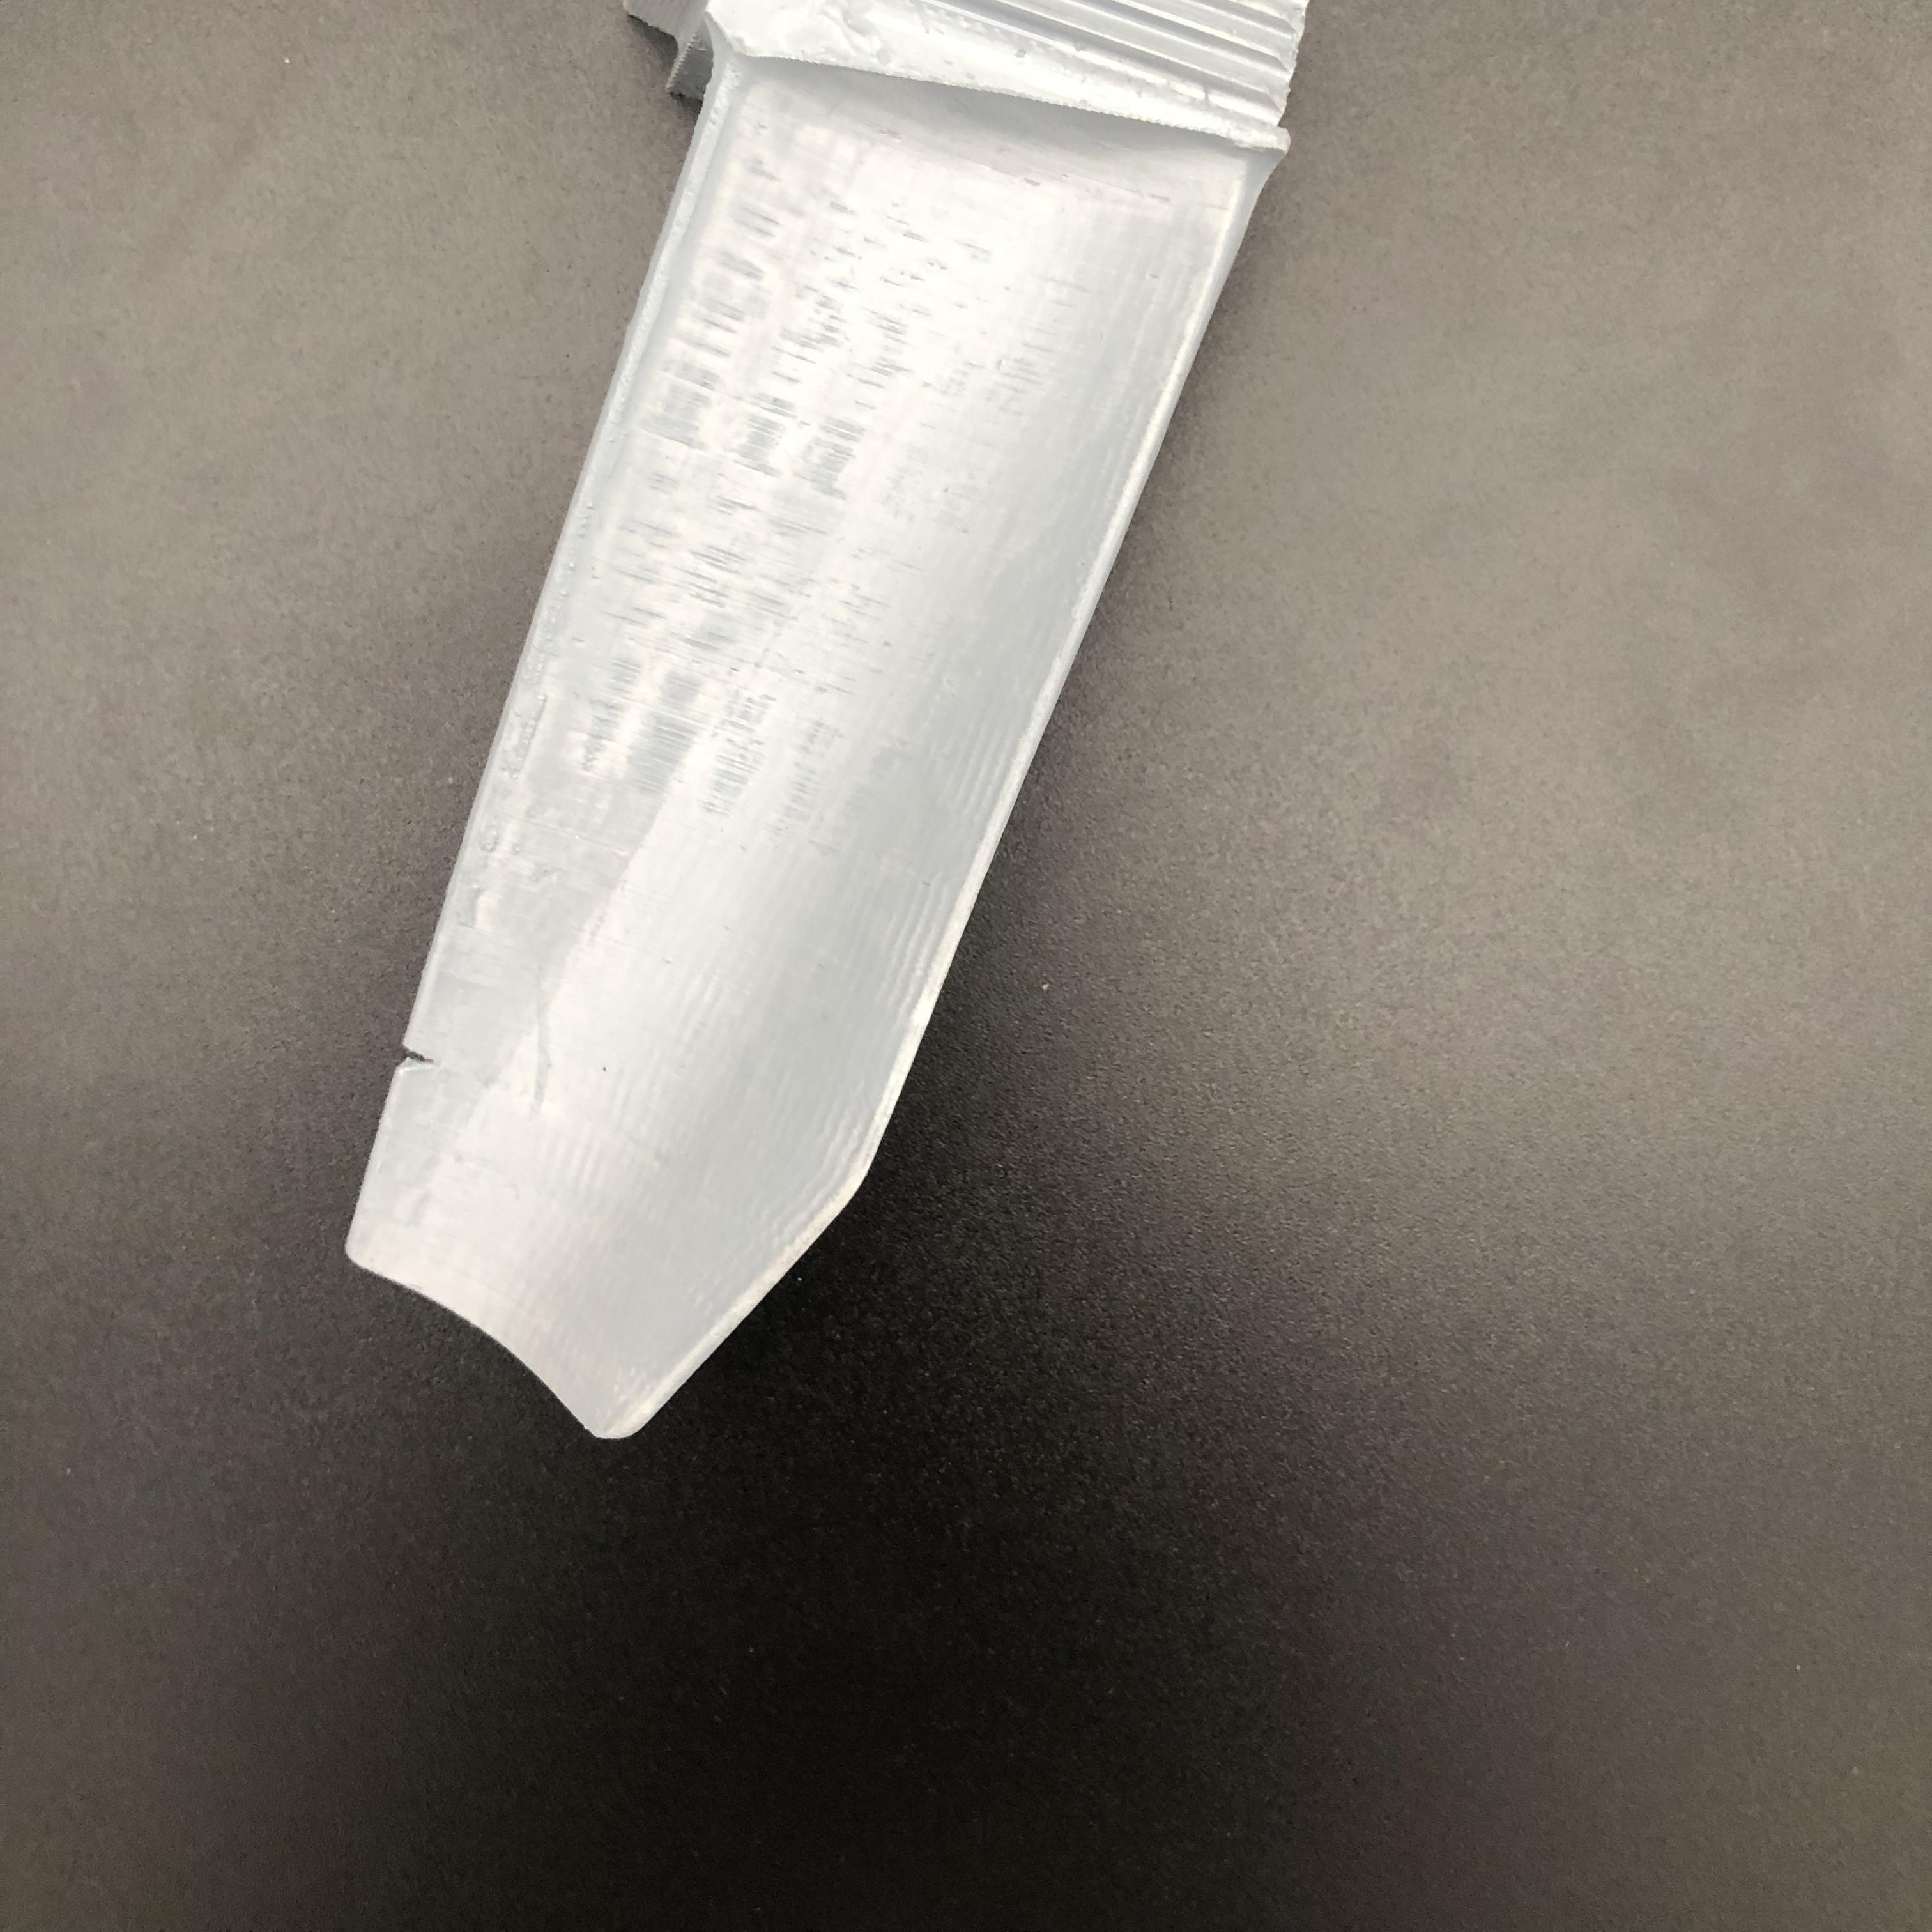groove: (391, 1030, 439, 1093)
